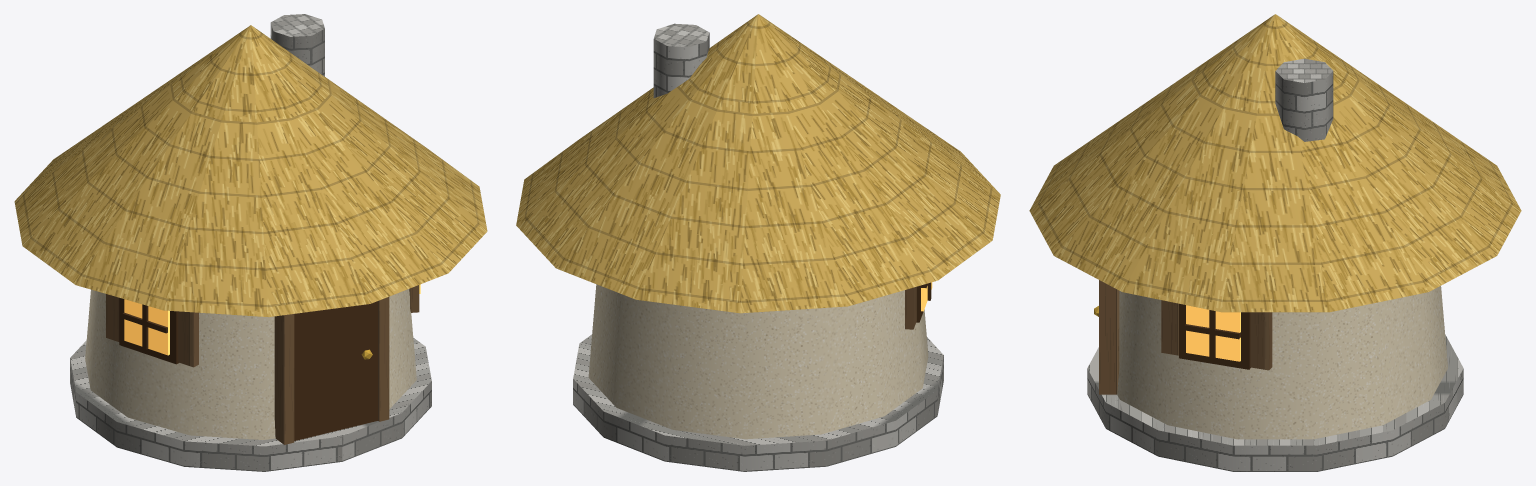
File: hut.glb
3 views of the same model, side by side, from view 1: azimuth 30°, elevation 25°; view 2: azimuth 150°, elevation 25°; view 3: azimuth 270°, elevation 25° (orthographic). The views are drawn at different scales.
Visible parts, largest first — view 1: hut; view 2: hut; view 3: hut.
Boxes of the visible parts, bbox=[...] form: hut: bbox=[14, 14, 487, 471]; hut: bbox=[516, 14, 1000, 471]; hut: bbox=[1029, 14, 1521, 471].
Size of the model in its own units: 3.31 by 2.9 by 3.4.
Materials: 7 (4 with a texture image).
